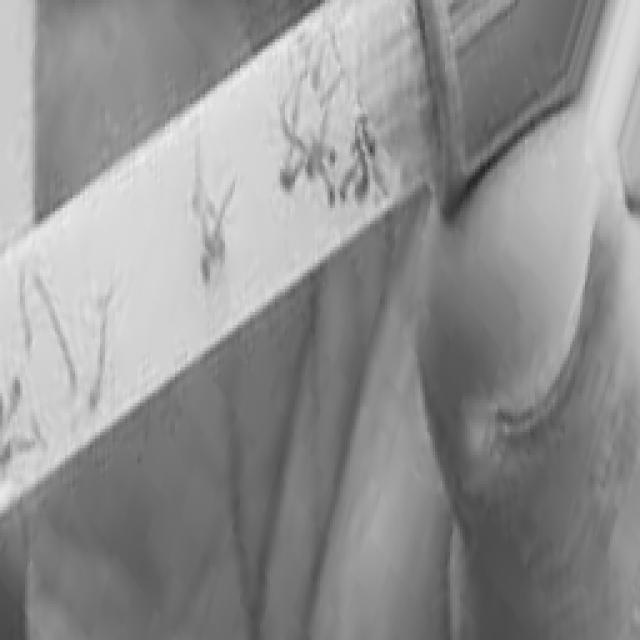larvas: (36, 273, 80, 396), (273, 95, 308, 158), (88, 302, 107, 404), (310, 159, 342, 213), (198, 194, 220, 257), (18, 276, 32, 352), (358, 112, 379, 161), (278, 157, 305, 193), (0, 378, 23, 417), (312, 137, 338, 169), (356, 143, 369, 198), (320, 72, 342, 104), (337, 170, 356, 201), (200, 256, 216, 285)
